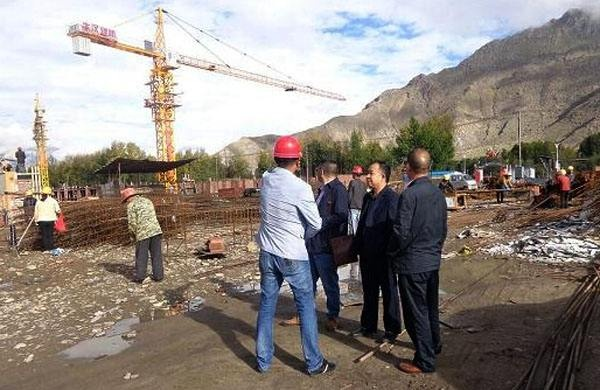none: (404, 147, 434, 183), (366, 159, 389, 190), (315, 159, 337, 186)
red: (271, 134, 301, 175), (122, 184, 137, 205), (350, 163, 363, 180)
